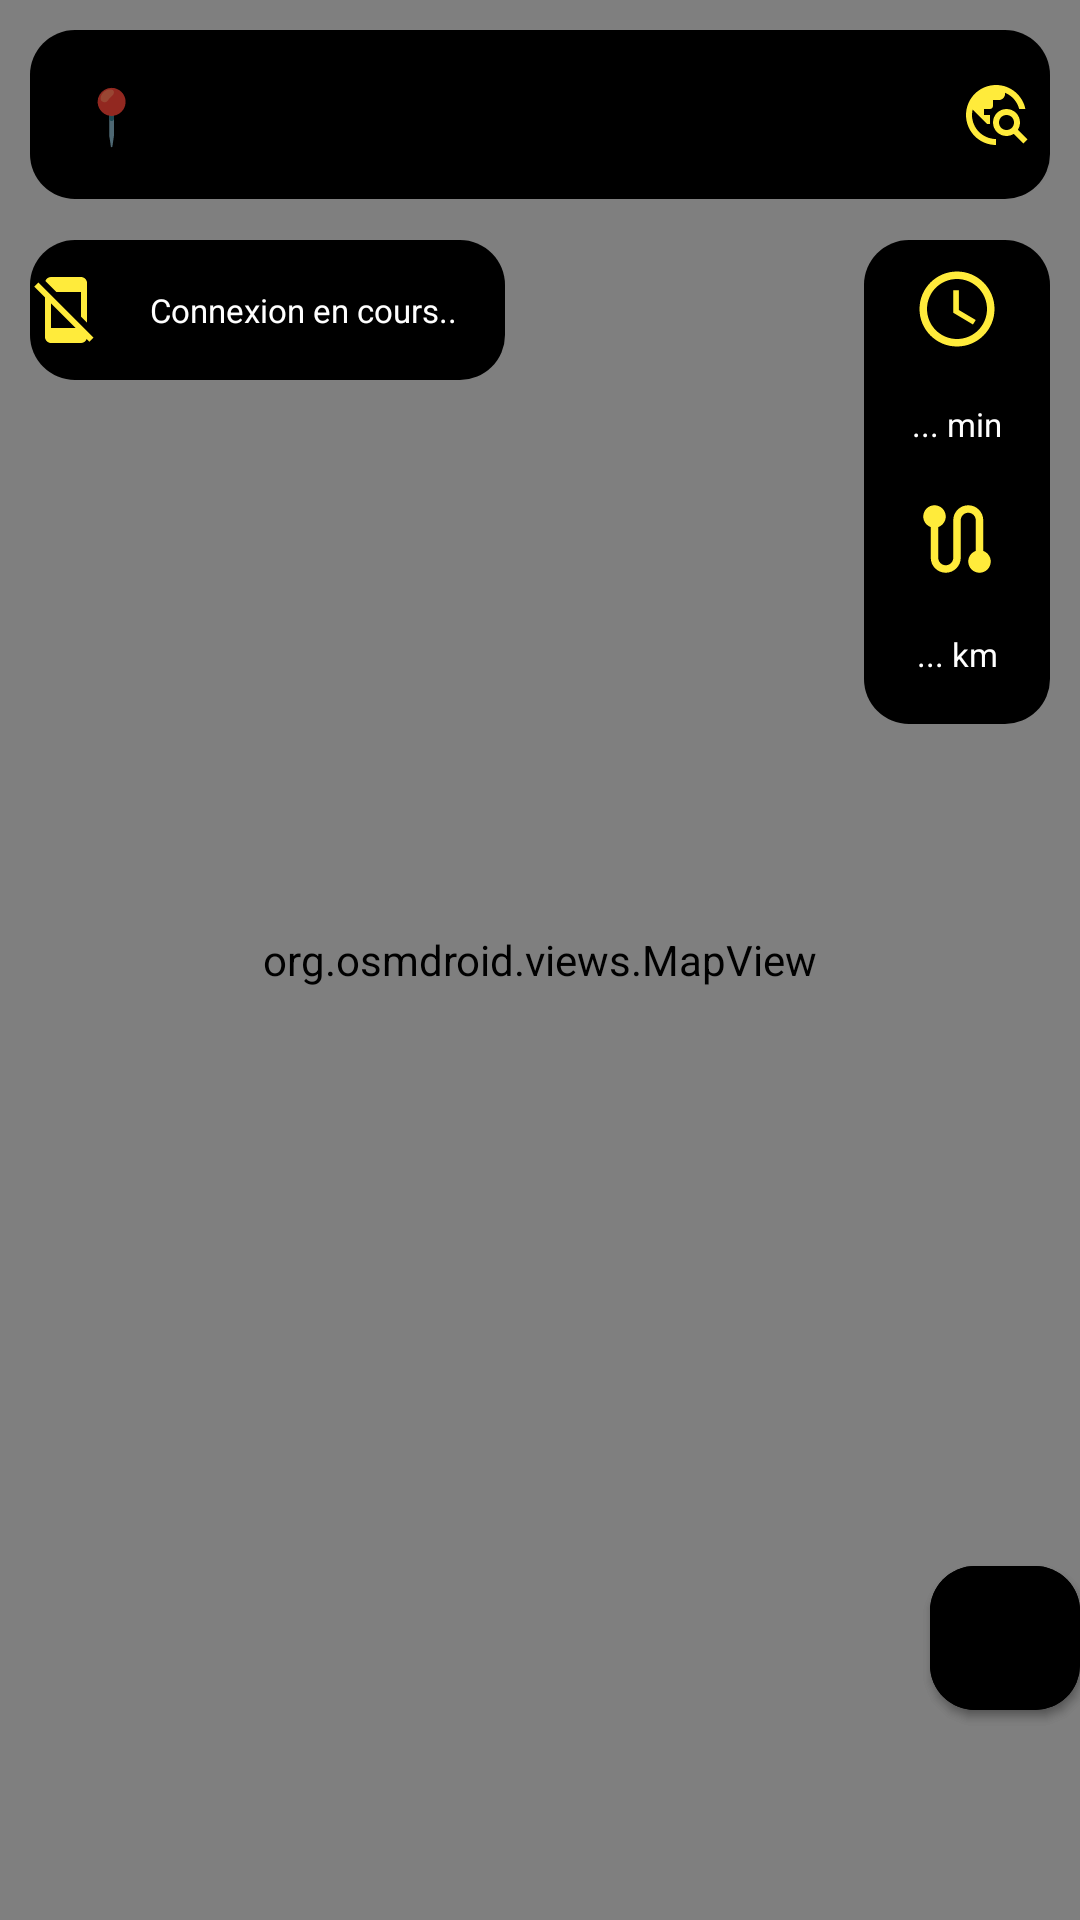

Where to tap for icons on this 1080px×1920px app screen, as (x,y):
device disconnected: (66,310)
road map: (957,539)
time map: (957,309)
